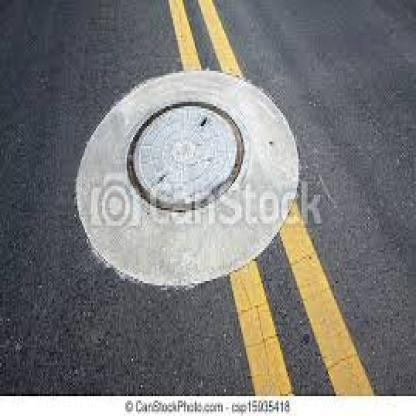manholes: (111, 80, 260, 230)
